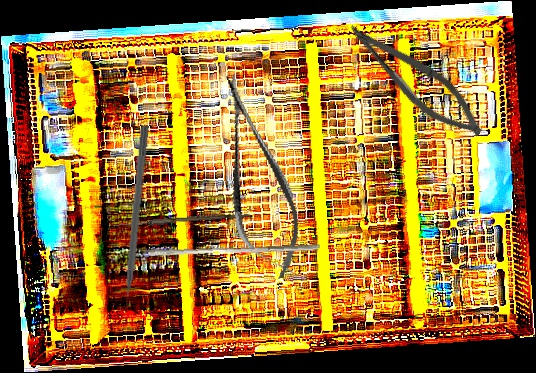Micro Scissor: (202, 67, 313, 286), (334, 14, 495, 148)
Pusher: (118, 125, 150, 320), (147, 237, 321, 262)
Surgical Spoon: (112, 211, 251, 229)
